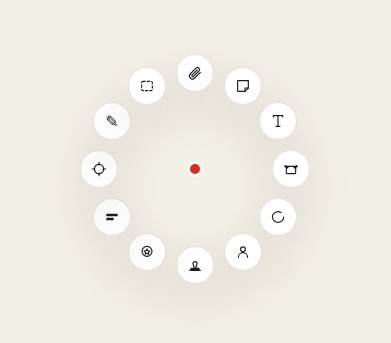
it: CursorTools › a tool with choices re-blooms the ring as its options instead of picking
Click the menu item titled "Stamp" at (195, 265), box top-left (176, 246), bottom-right (214, 284)
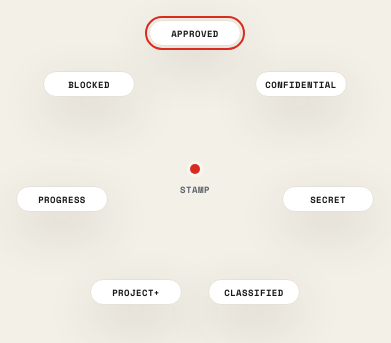
Check: the number of menu items is 7
Check: the menu item titled "APPROVED" is shown, box top-left (149, 20), bottom-right (241, 46)
